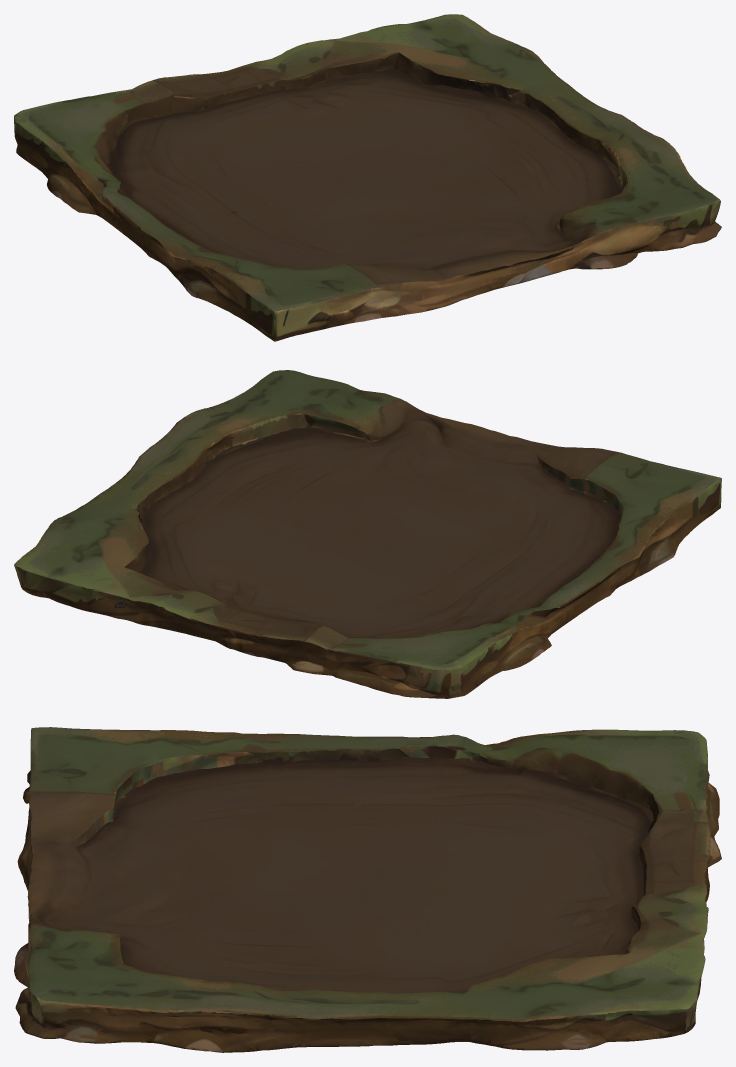
File: mud.glb
3 renders of one model, top to bottom at view 1: azimuth 30°, elevation 25°; view 2: azimuth 150°, elevation 25°; view 3: azimuth 270°, elevation 25°, orthographic. The views are drawn at different scales.
Visible parts, largest first — view 1: mud; view 2: mud; view 3: mud.
Part boxes in pixels (<box>): mud: <box>14,14,721,341</box>; mud: <box>14,370,721,698</box>; mud: <box>14,727,721,1052</box>.
Bounding box in the file's own units: 2.78 × 0.207 × 2.8.
Materials: 1 (1 with a texture image).
